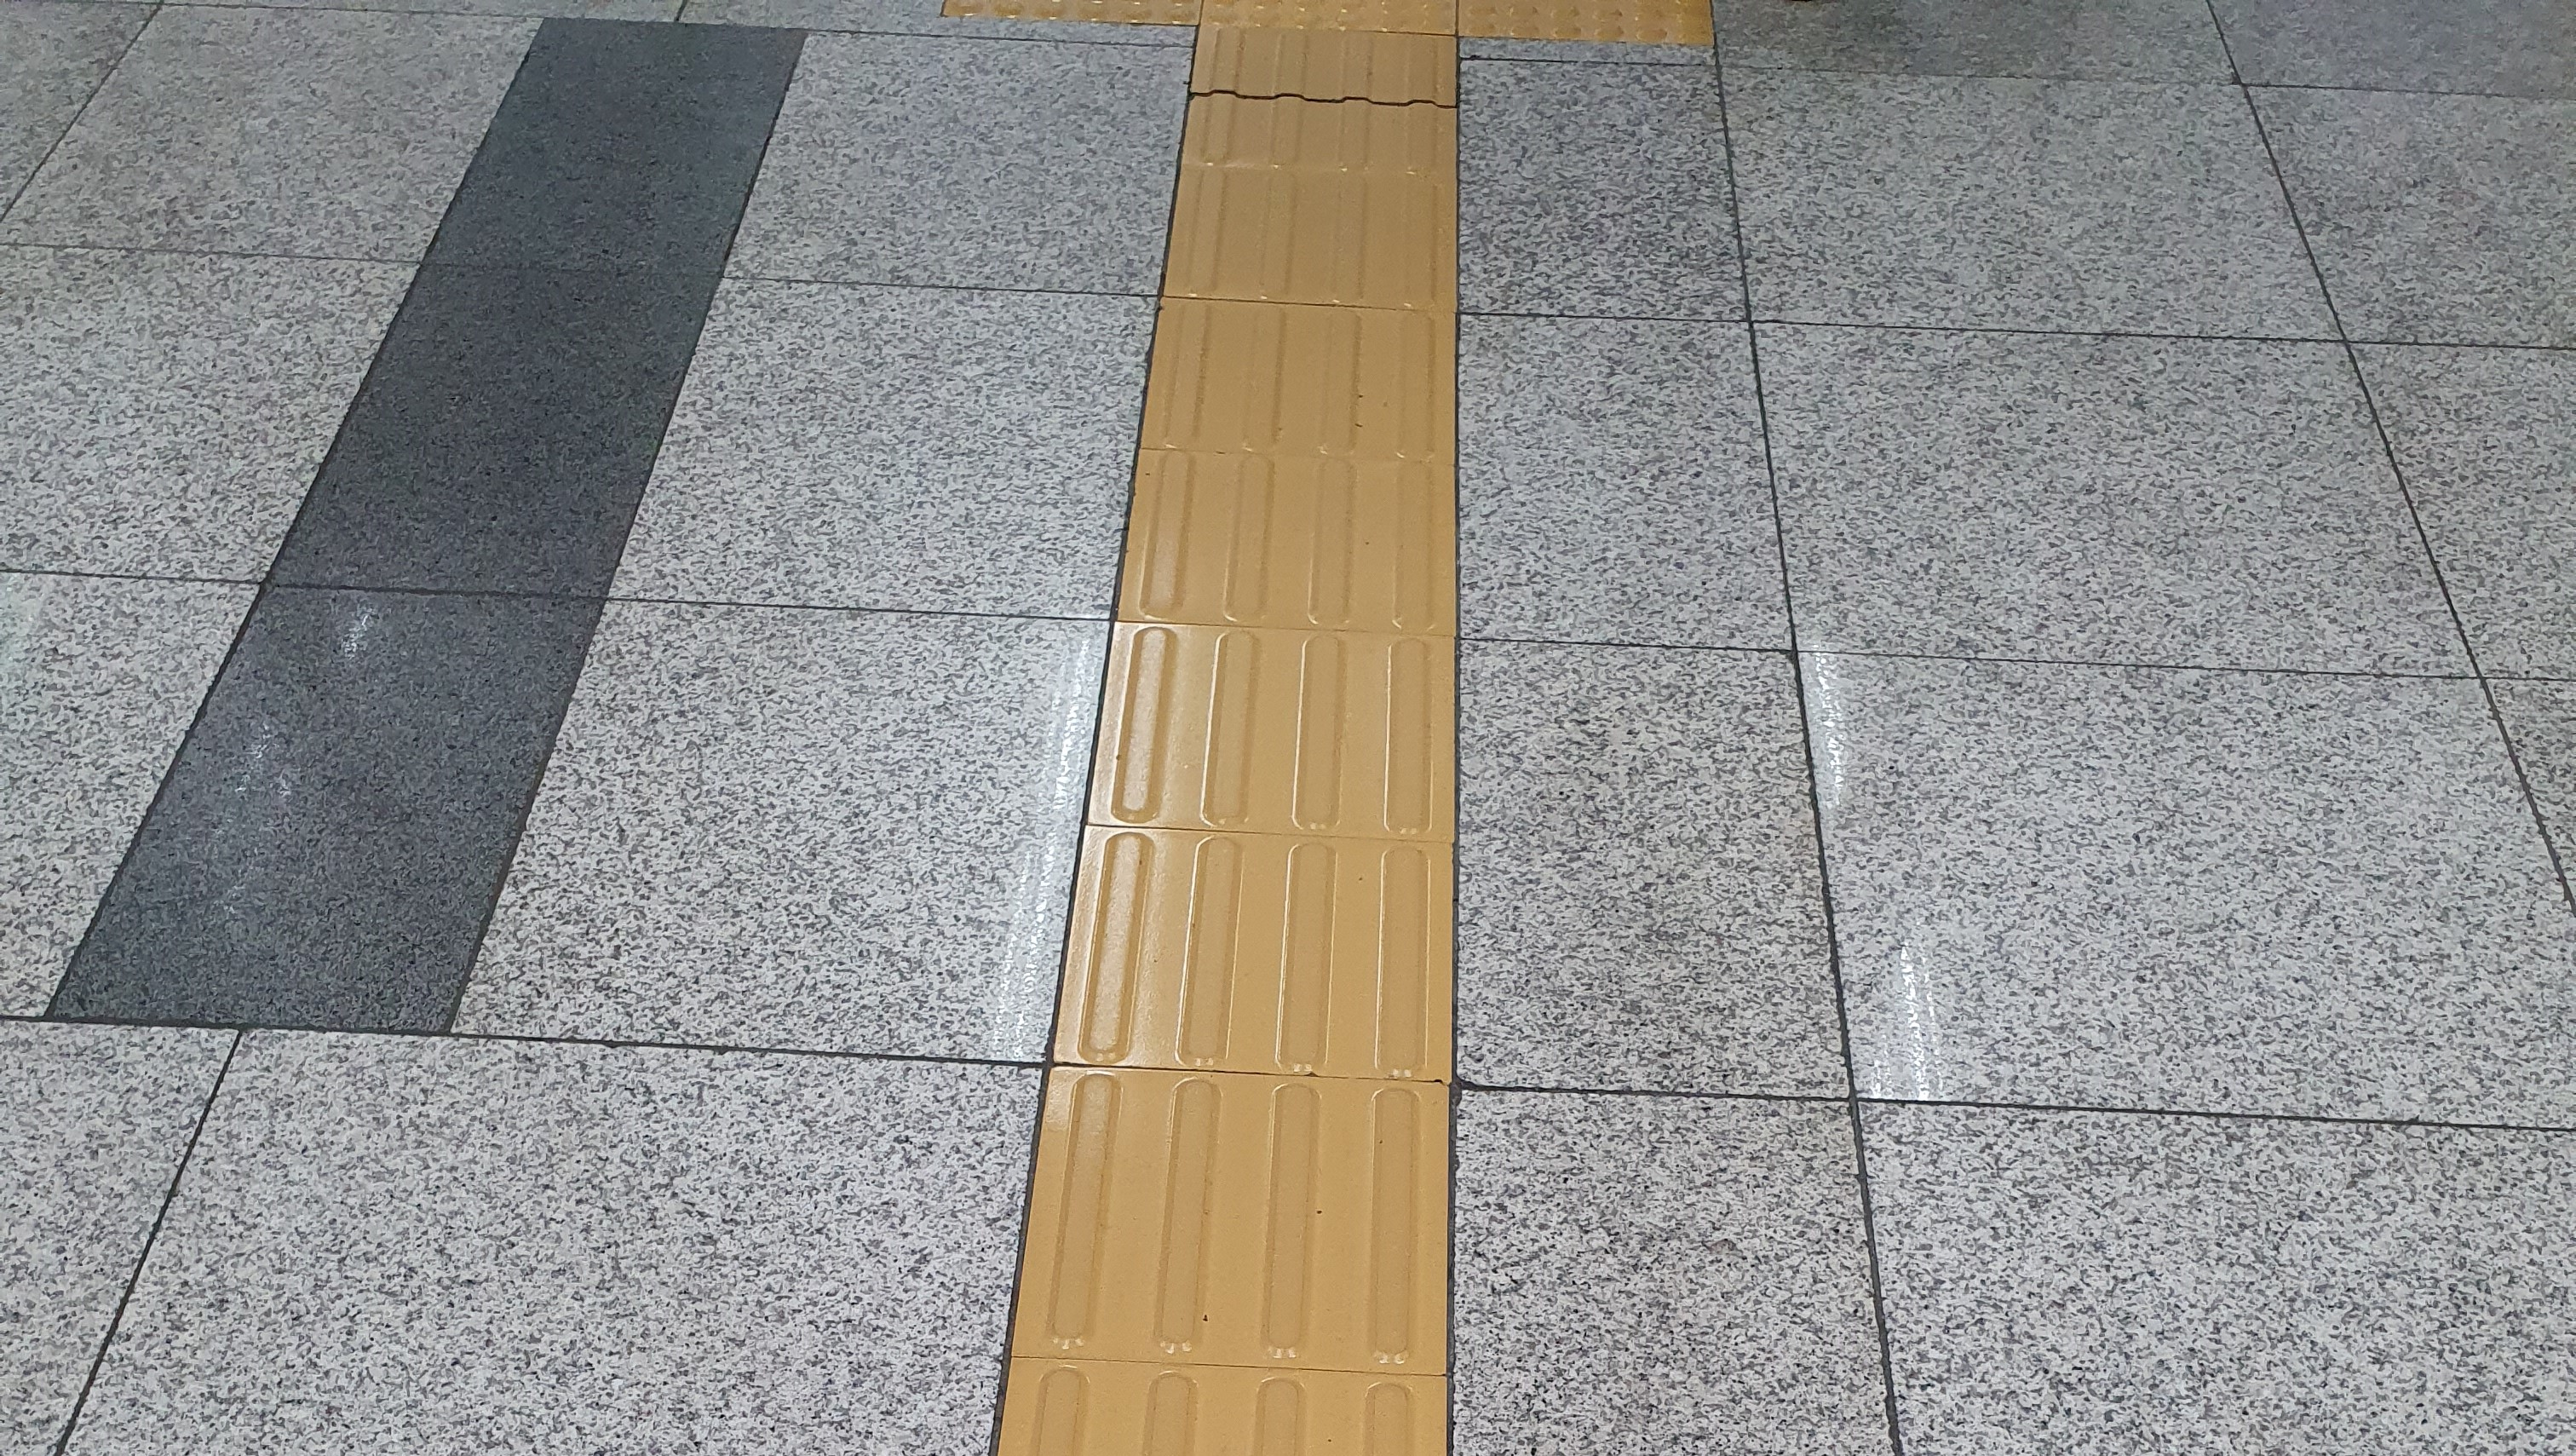guideBlock: (1088, 816, 1474, 1106), (1040, 1074, 1415, 1364), (1148, 446, 1468, 642), (1109, 628, 1403, 835), (1152, 304, 1467, 488), (1187, 156, 1454, 347), (1215, 23, 1472, 209)
